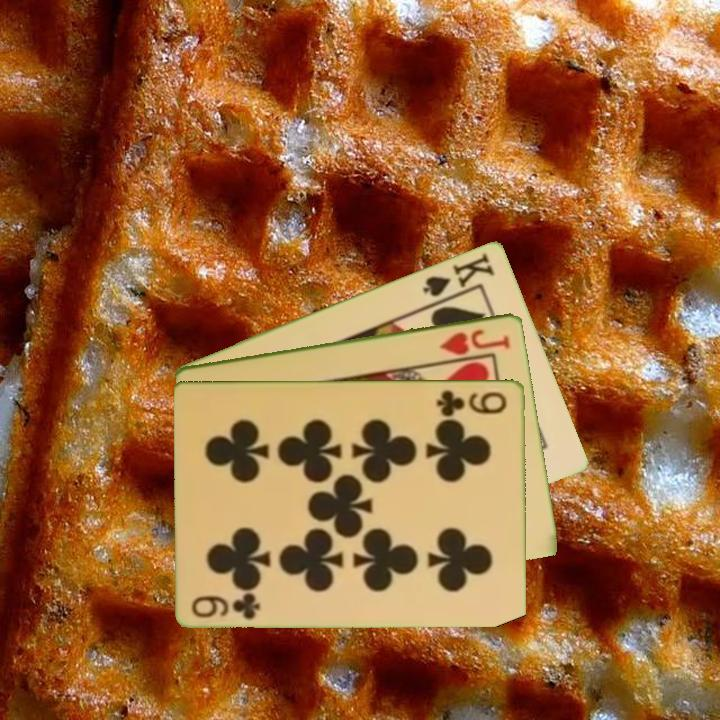9c: (189, 590, 264, 622), (433, 386, 510, 417)
Jh: (436, 325, 513, 358)
Ks: (419, 249, 498, 306)
